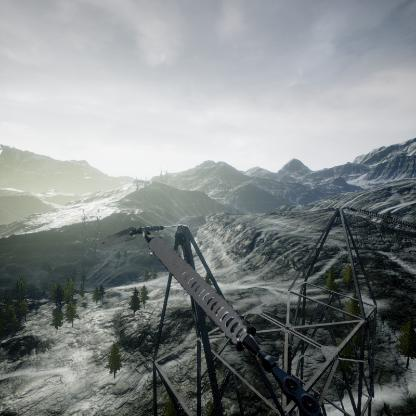insulator: (145, 235, 253, 346)
